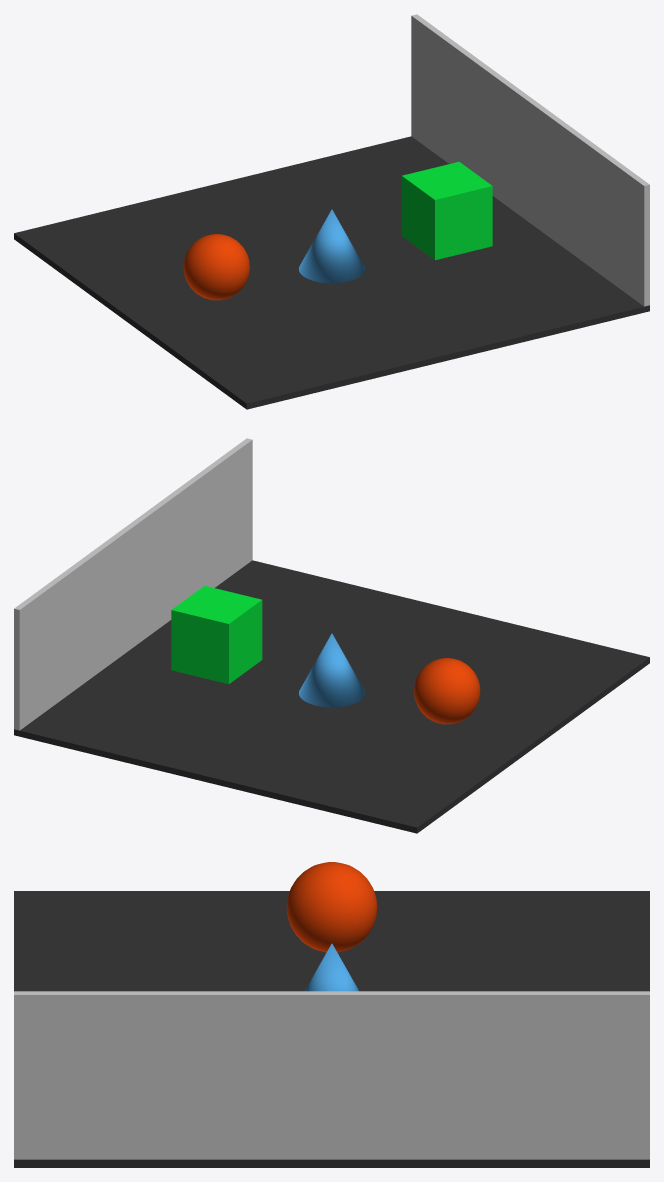
3 views of the same model, one above another, from view 1: azimuth 30°, elevation 25°; view 2: azimuth 150°, elevation 25°; view 3: azimuth 270°, elevation 25° (orthographic). The views are drawn at different scales.
Parts seen in each view (by area): view 1: Cube.001, Cube.002, Cube, Sphere, Cone; view 2: Cube.001, Cube.002, Cube, Sphere, Cone; view 3: Cube.002, Cube.001, Sphere, Cone.
Boxes of the visible parts, x1,y1,x2,y2 form: Cube.001: (14, 136, 649, 409); Cube.002: (411, 14, 649, 306); Cube: (401, 161, 492, 260); Sphere: (183, 234, 249, 300); Cone: (299, 209, 364, 283); Cube.001: (14, 560, 649, 833); Cube.002: (14, 438, 252, 730); Cube: (171, 585, 262, 684); Sphere: (414, 658, 480, 724); Cone: (299, 633, 364, 707); Cube.002: (14, 991, 649, 1159); Cube.001: (14, 891, 649, 1167); Sphere: (286, 862, 377, 952); Cone: (305, 943, 358, 991).
Size of the model in its own units: 1400 by 420 by 1400.
